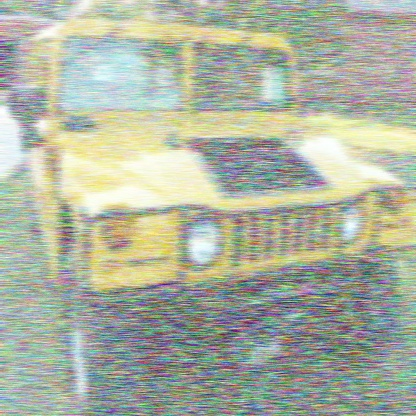Vehicle: (8, 16, 415, 415)
